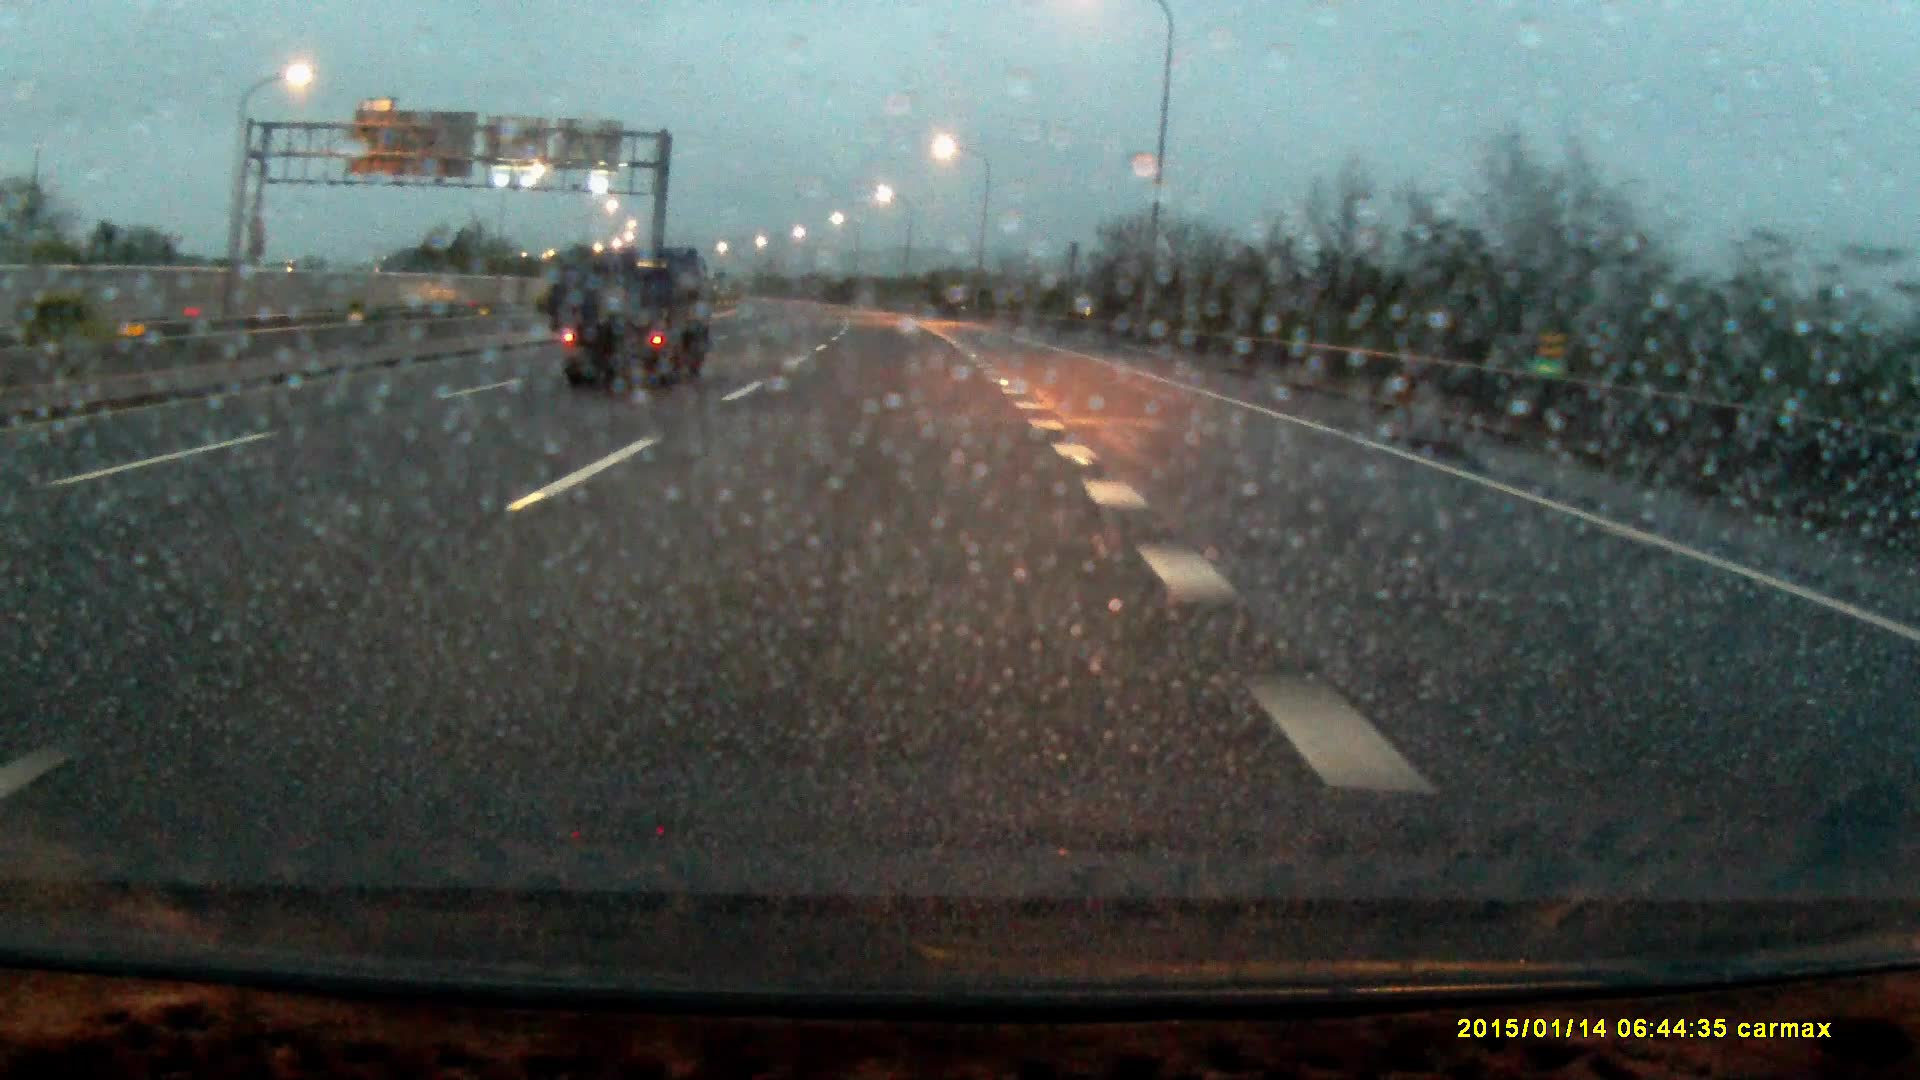vehicle: (555, 252, 717, 393)
